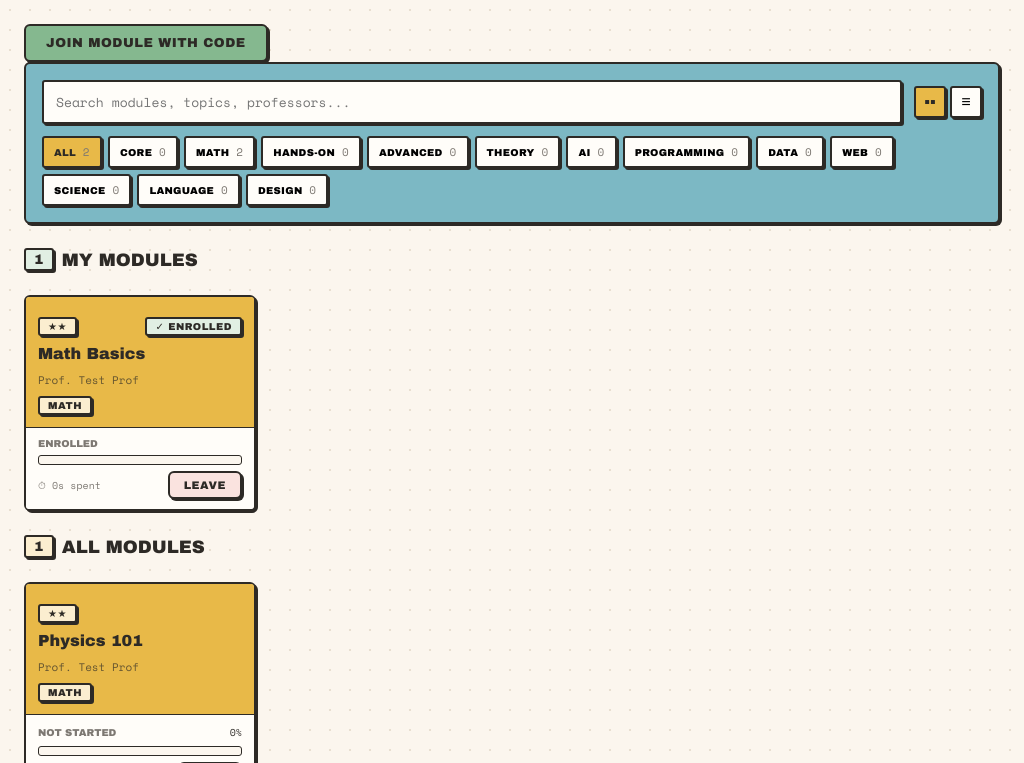
it: StudentModules › search filters both sections simultaneously
Expected: the text "Math Basics" is shown, top-left (38, 345), bottom-right (145, 362)
Type "Physics" into the field with placeholder "Search modules, topics, professors...". click: (472, 102)
box: top-left (42, 80), bottom-right (902, 124)
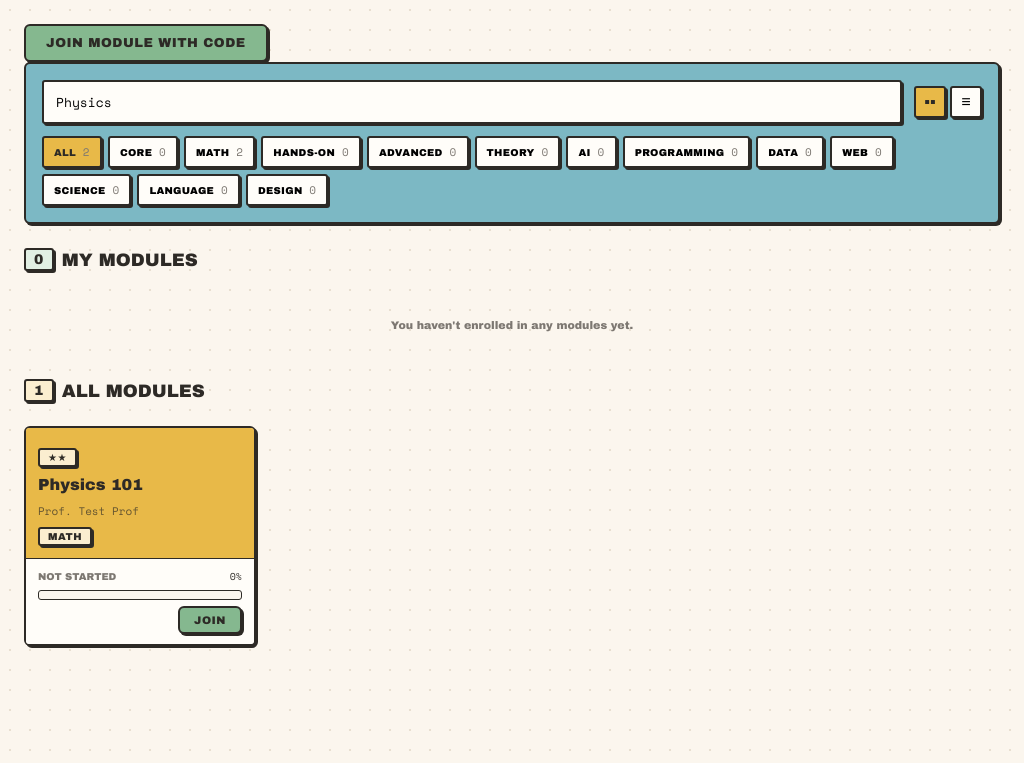
Expected: the text "Physics 101" is shown, top-left (38, 476), bottom-right (143, 493)
Expected: the text "Math Basics" is gone
